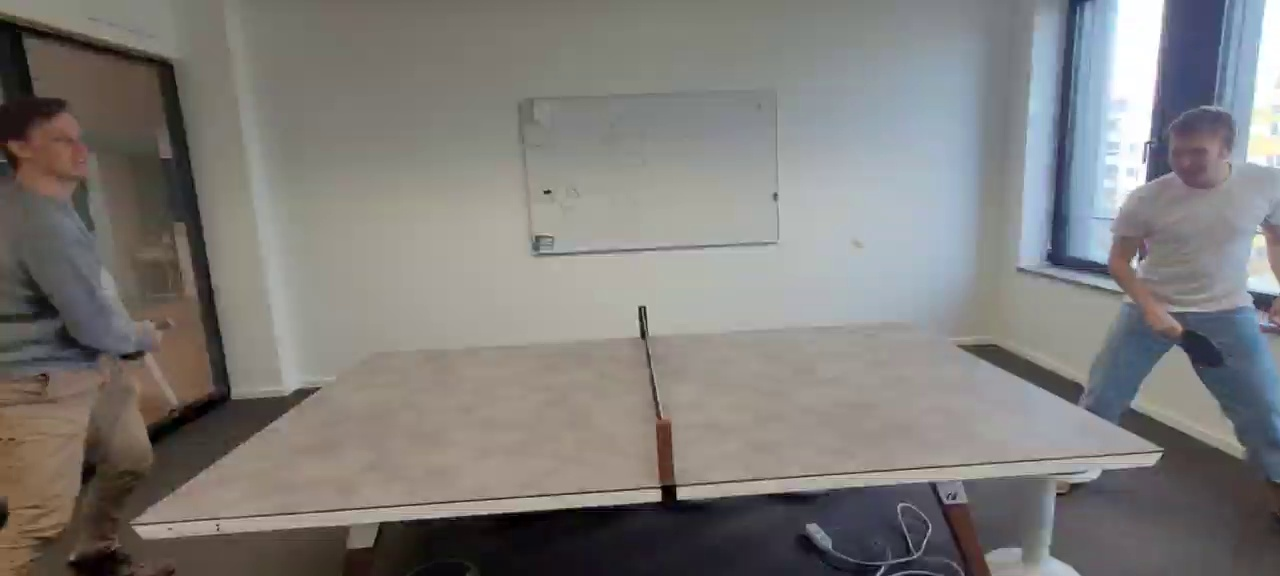1: (1182, 329, 1224, 368)
2: (853, 236, 865, 248)
ttplatte: (159, 327, 1192, 527)
